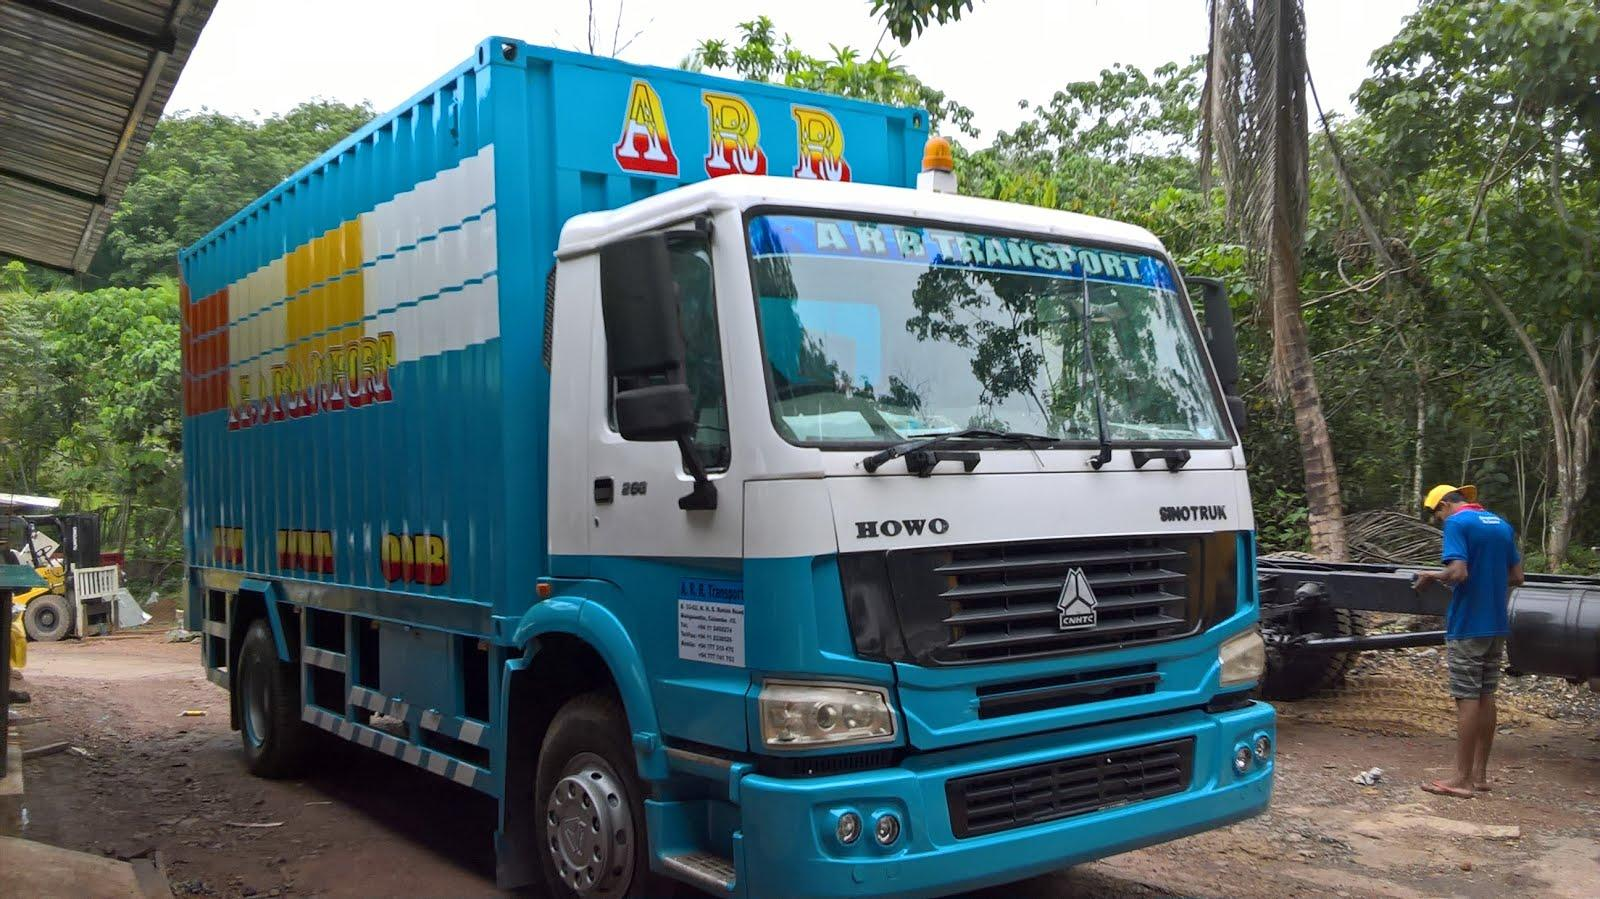truck: (176, 36, 1273, 899)
